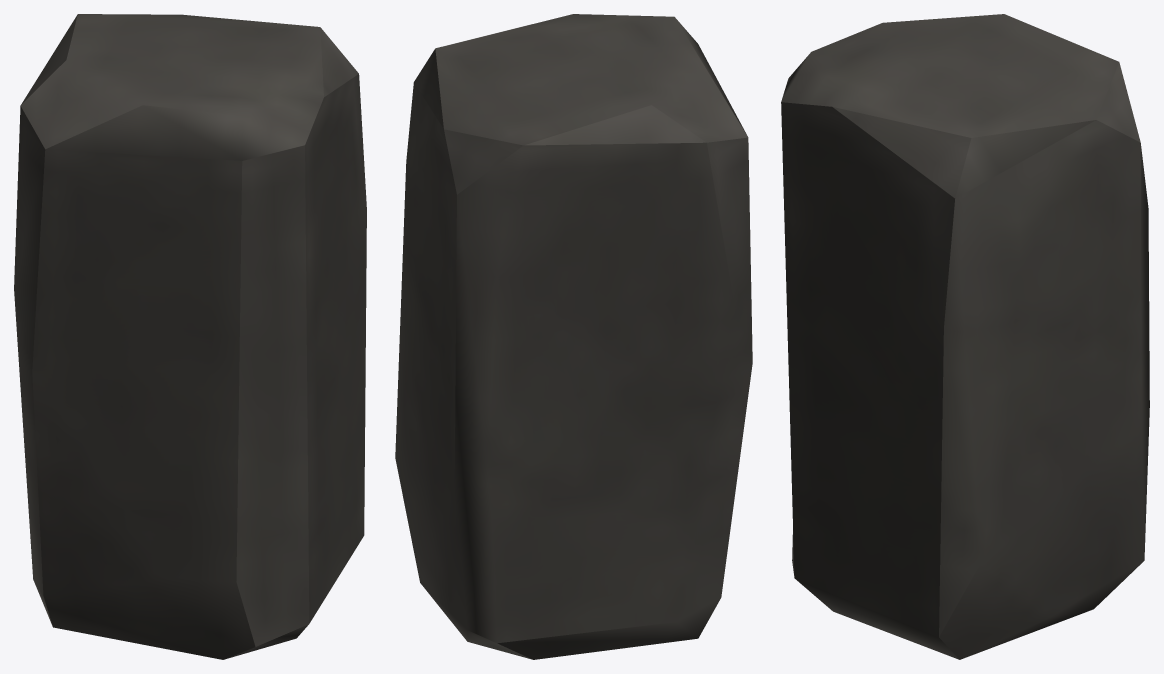
Rendered from Block4.fbx.
3 views of the same model, side by side, from view 1: azimuth 30°, elevation 25°; view 2: azimuth 150°, elevation 25°; view 3: azimuth 270°, elevation 25° (orthographic). The views are drawn at different scales.
Parts seen in each view (by area): view 1: Block4; view 2: Block4; view 3: Block4.
Boxes of the visible parts, left/top/right/bottom form: Block4: left=14, top=14, right=366, bottom=659; Block4: left=395, top=14, right=752, bottom=659; Block4: left=781, top=14, right=1149, bottom=659.
Bounding box in the file's own units: 109 × 167 × 105.
Materials: 1 (1 with a texture image).
